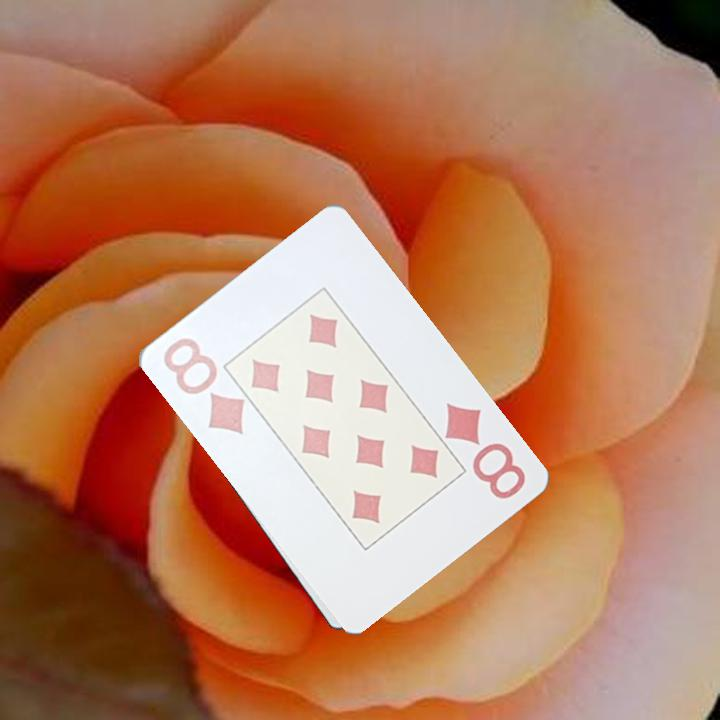8d: (158, 333, 247, 438), (440, 399, 528, 503)
